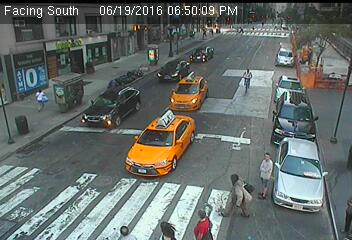neg: (235, 61, 260, 95), (145, 46, 168, 76), (268, 110, 290, 138), (142, 71, 161, 96), (319, 64, 337, 89), (99, 100, 117, 124), (68, 67, 84, 88)
pos: (251, 151, 287, 199), (218, 171, 252, 217), (191, 206, 216, 239), (29, 86, 48, 110)
